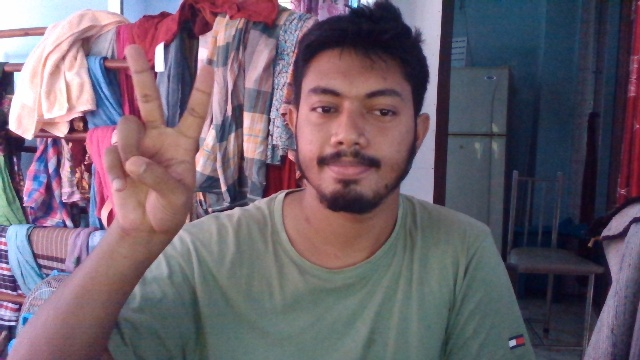thanks: (84, 39, 218, 249)
